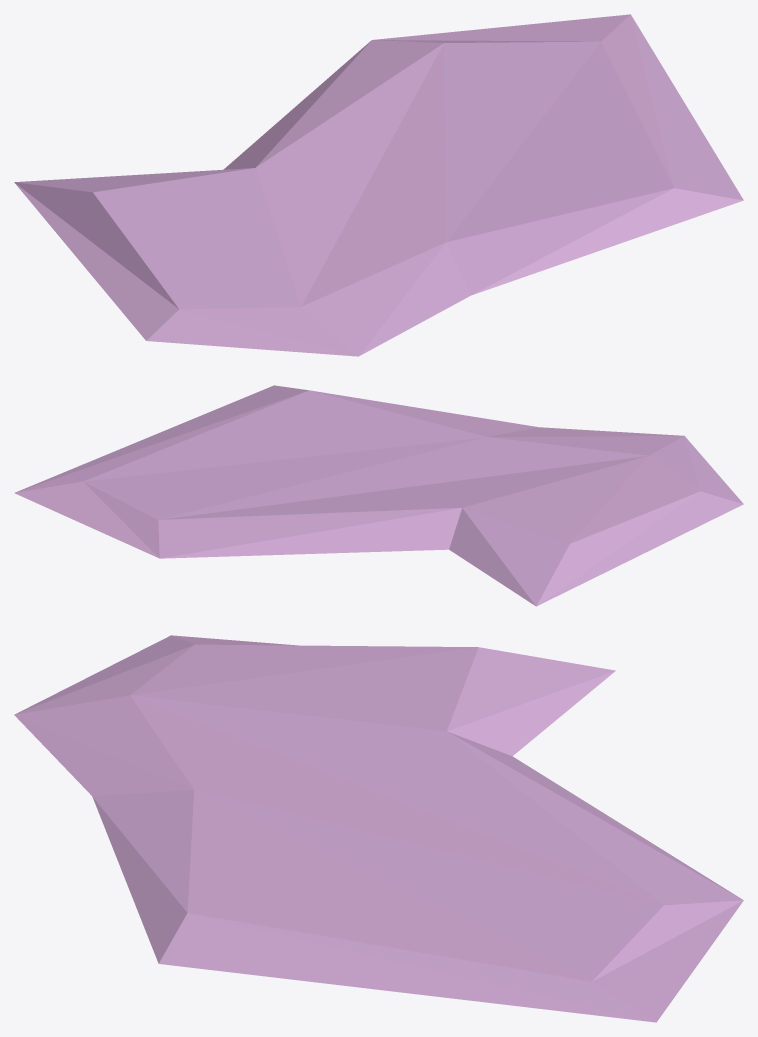
File: MassiveBullet_Puddle_3.dae
3 views of the same model, one above another, from view 1: azimuth 30°, elevation 25°; view 2: azimuth 150°, elevation 25°; view 3: azimuth 270°, elevation 25° (orthographic). The views are drawn at different scales.
Parts seen in each view (by area): view 1: Cube; view 2: Cube; view 3: Cube.
Part boxes in pixels (bbox=[...]): Cube: bbox=[14, 14, 743, 356]; Cube: bbox=[14, 385, 743, 606]; Cube: bbox=[14, 635, 743, 1022].
Bounding box in the file's own units: 7.64 × 6.08 × 0.3094.
